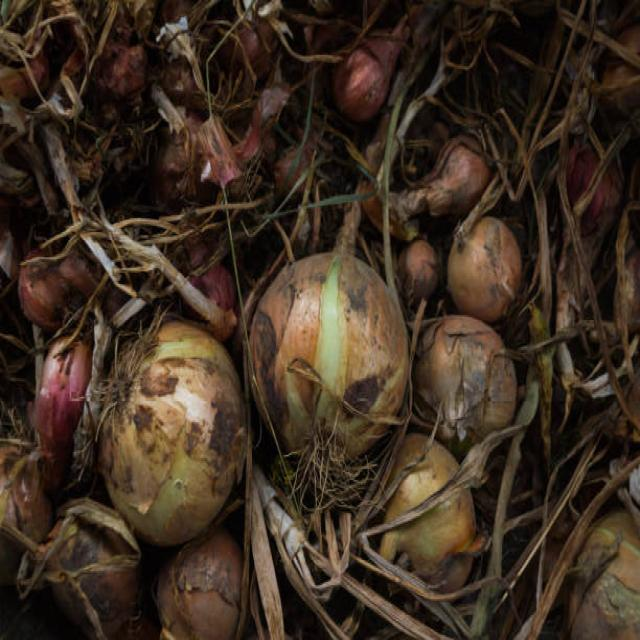mechanical_damage: (104, 331, 242, 540), (264, 254, 404, 455), (152, 118, 206, 213)
